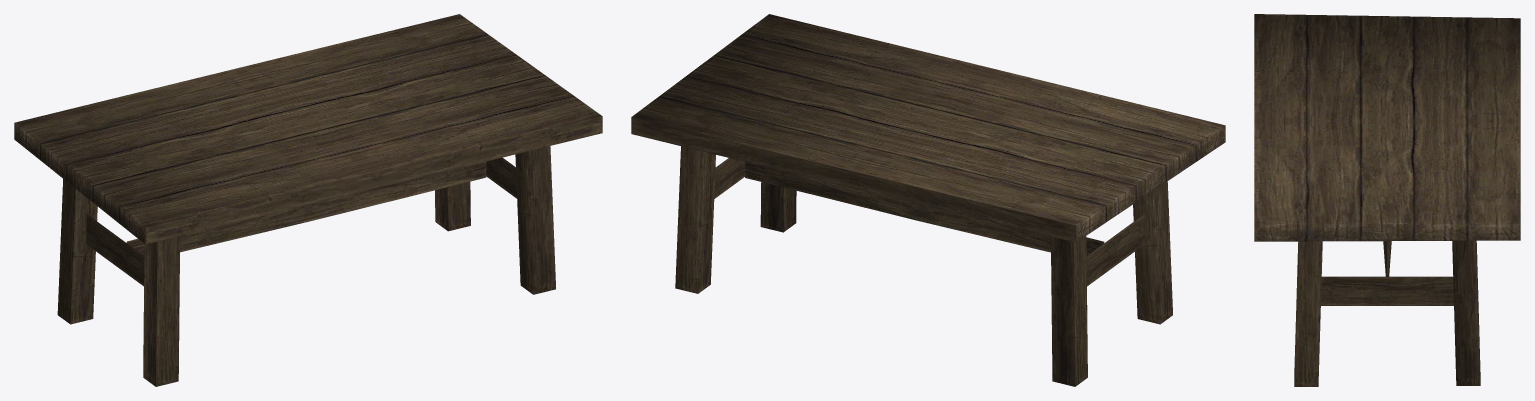
Rendered from eso_gu8_WoodFurniture2-transformed.glb.
3 renders of one model, left to right at view 1: azimuth 30°, elevation 25°; view 2: azimuth 150°, elevation 25°; view 3: azimuth 270°, elevation 25°, orthographic. The views are drawn at different scales.
Parts seen in each view (by area): view 1: default; view 2: default; view 3: default.
Part boxes in pixels (x1=…): default: x1=14, y1=14, x2=602, y2=386; default: x1=631, y1=14, x2=1225, y2=386; default: x1=1254, y1=14, x2=1520, y2=386.
Bounding box in the file's own units: 2.48 × 0.9449 × 1.32.
1 material, 1 textured.
